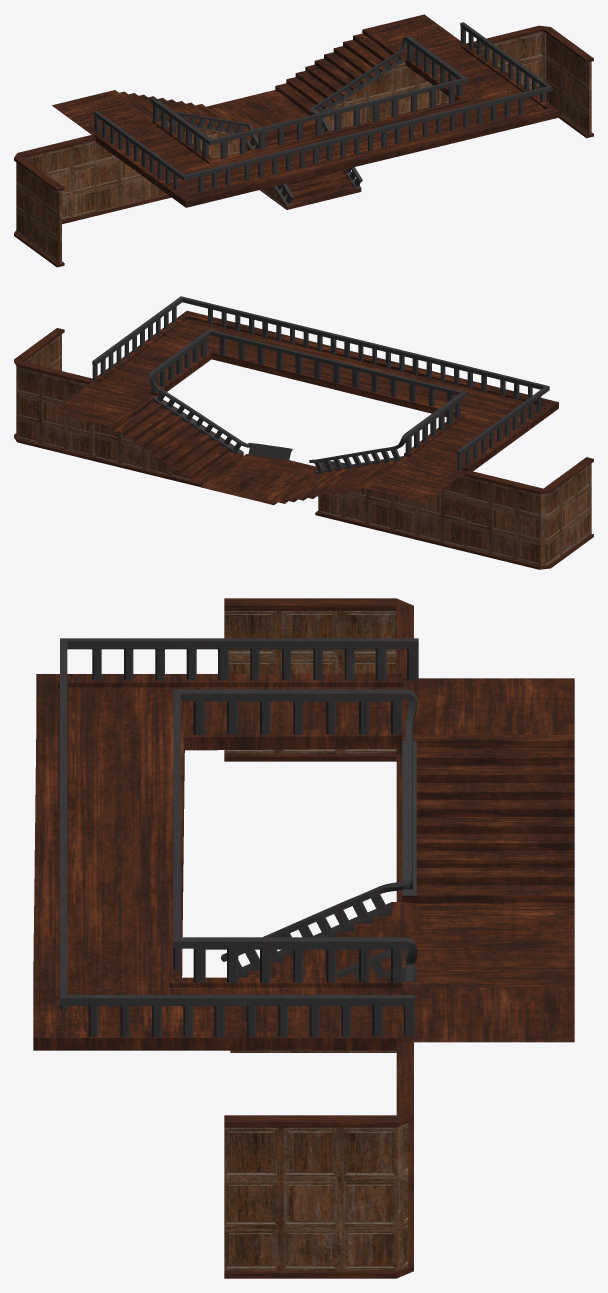
File: stairs.fbx
3 views of the same model, one above another, from view 1: azimuth 30°, elevation 25°; view 2: azimuth 150°, elevation 25°; view 3: azimuth 270°, elevation 25° (orthographic). The views are drawn at different scales.
Visible parts, largest first — view 1: polySurface112; view 2: polySurface112; view 3: polySurface112.
Part boxes in pixels (box(x1,y1,x2,y2)): polySurface112: box(14, 14, 593, 267); polySurface112: box(14, 296, 593, 569); polySurface112: box(33, 598, 574, 1278).
Bounding box in the file's own units: 2160 × 388 × 943.
